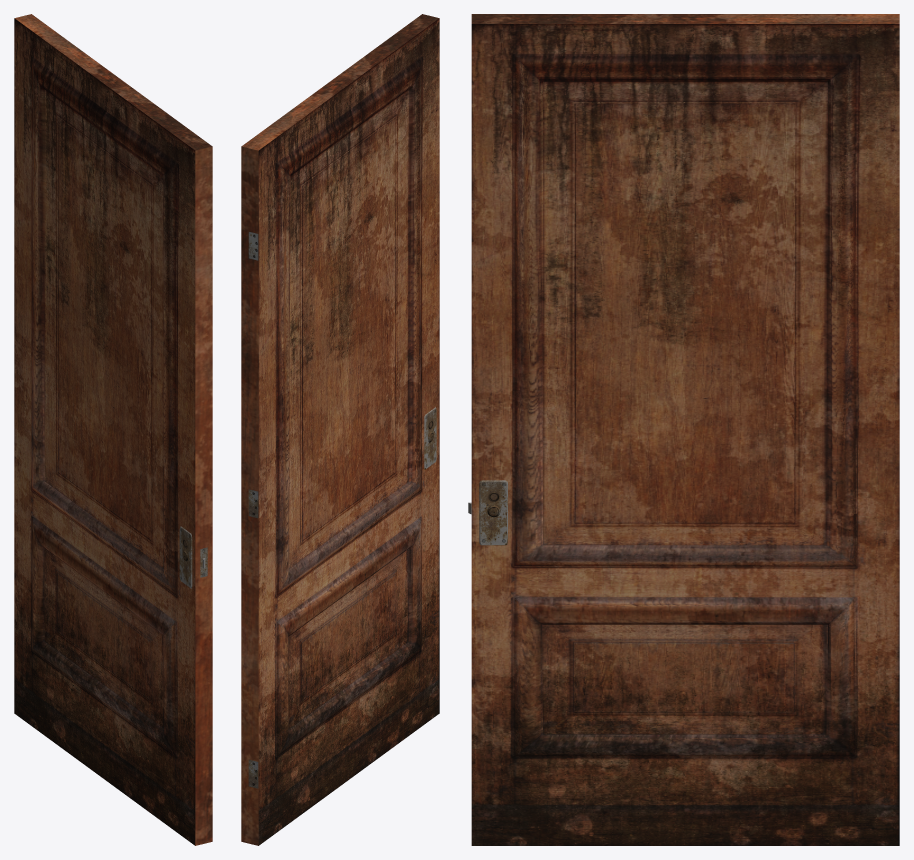
The model's file is Door_02.fbx.
3 renders of one model, left to right at view 1: azimuth 30°, elevation 25°; view 2: azimuth 150°, elevation 25°; view 3: azimuth 270°, elevation 25°, orthographic. The views are drawn at different scales.
Visible parts, largest first — view 1: Door_02; view 2: Door_02; view 3: Door_02.
Part boxes in pixels (left/top/right/bottom): Door_02: left=14, top=14, right=212, bottom=845; Door_02: left=241, top=14, right=439, bottom=845; Door_02: left=468, top=14, right=899, bottom=845.
Size of the model in its own units: 0.0965 by 2.71 by 1.29.
